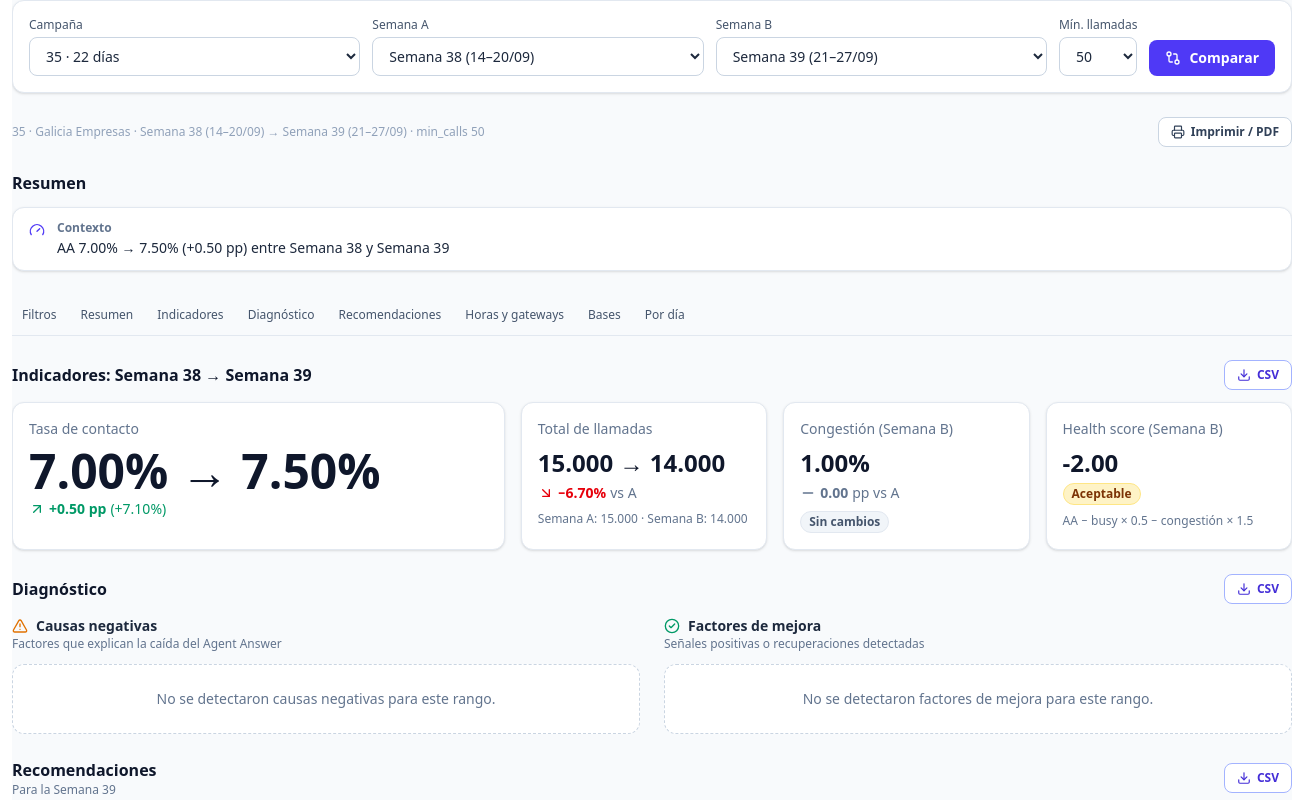
Test: WeeksCompareMode › avisa si las semanas tienen distinta cantidad de días
This screenshot has width=1304, height=800.
Select "Semana 40 (28/09–04/10) · parcial" in the dropdown with test id "filter-week-b" at point(881, 56), box [716,37,1047,76]
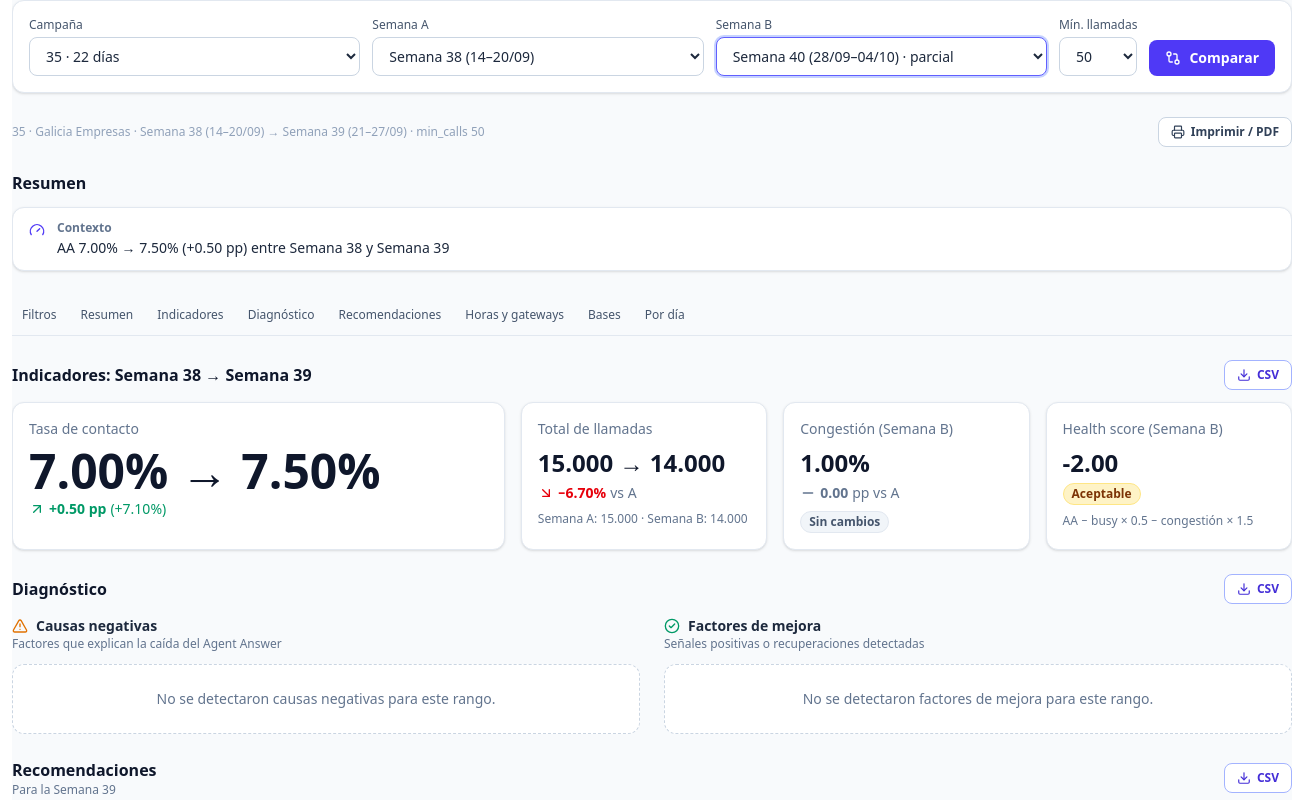
Click the button with test id "filter-weeks-submit" at point(1212, 58), box [1150,40,1275,76]
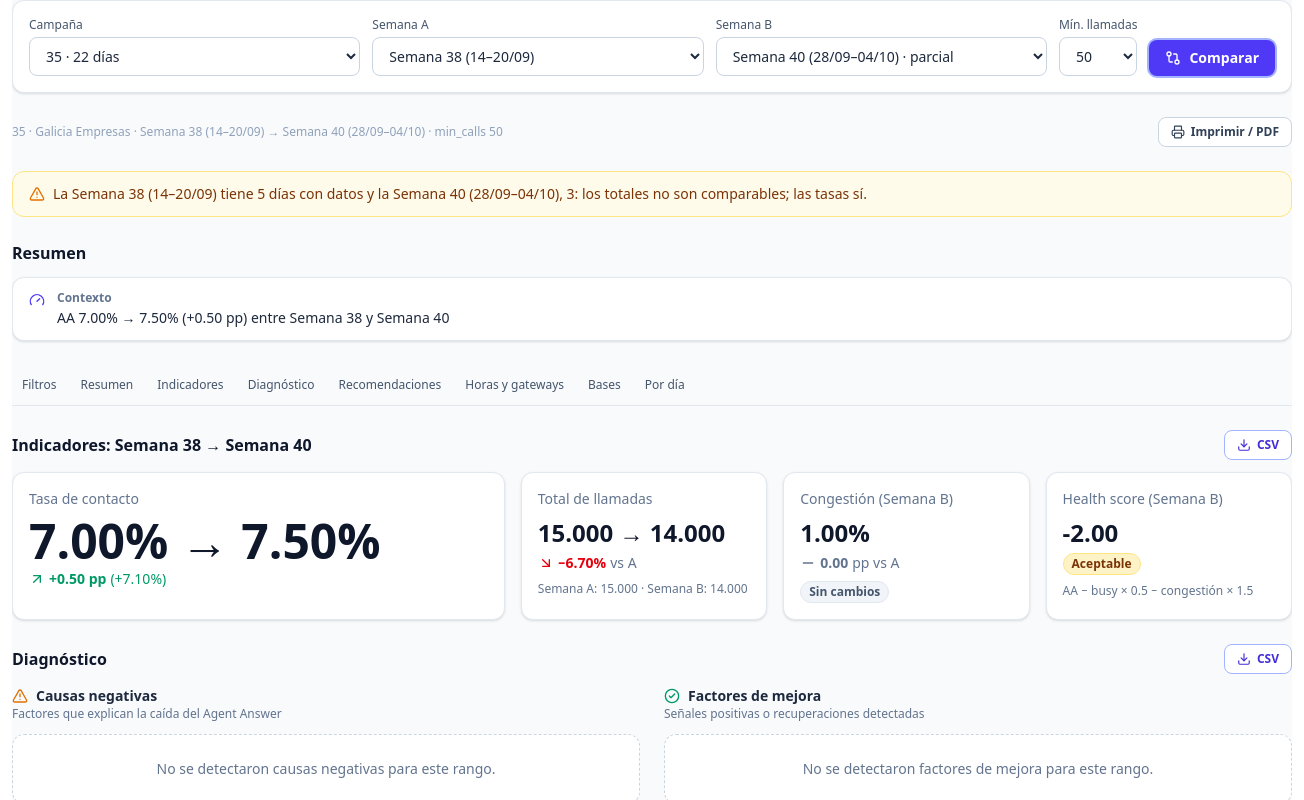
Expected: the element with test id "weeks-mismatch-warning" shows "La Semana 38 (14–20/09) tiene 5 días con datos y la Semana 40 (28/09–04/10), 3: los totales no son comparables; las tasas sí.", [53,184,867,203]
